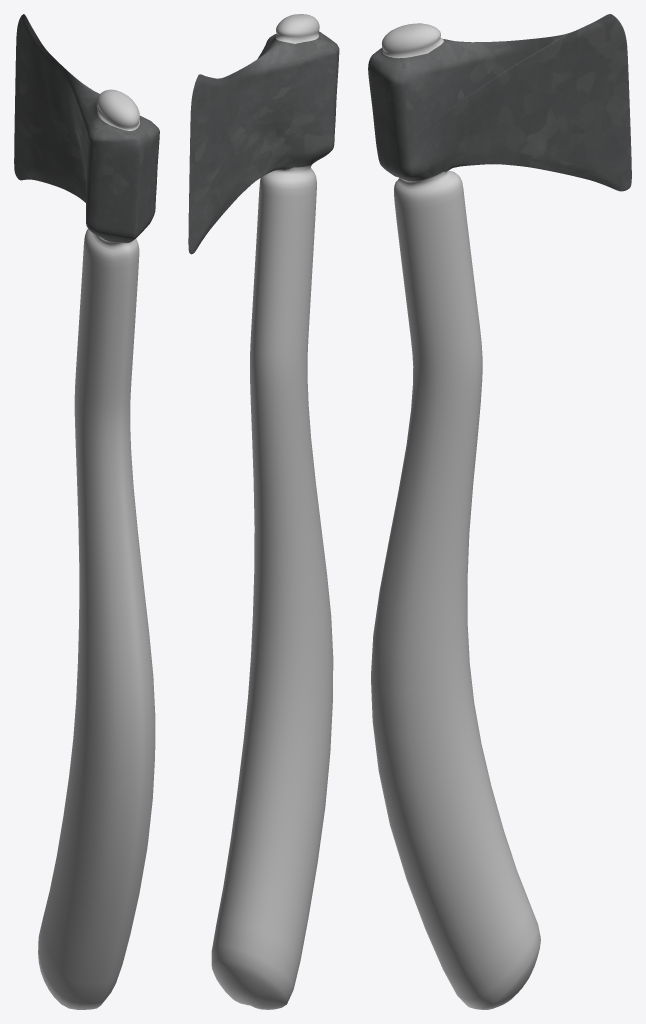
The model's file is machado.fbx.
3 views of the same model, side by side, from view 1: azimuth 30°, elevation 25°; view 2: azimuth 150°, elevation 25°; view 3: azimuth 270°, elevation 25° (orthographic). The views are drawn at different scales.
Visible parts, largest first — view 1: machado final; view 2: machado final; view 3: machado final.
Part boxes in pixels (<box>): machado final: <box>14,14,159,1009</box>; machado final: <box>188,14,339,1009</box>; machado final: <box>368,14,631,1009</box>.
Bounding box in the file's own units: 41.38 × 525 × 127.
